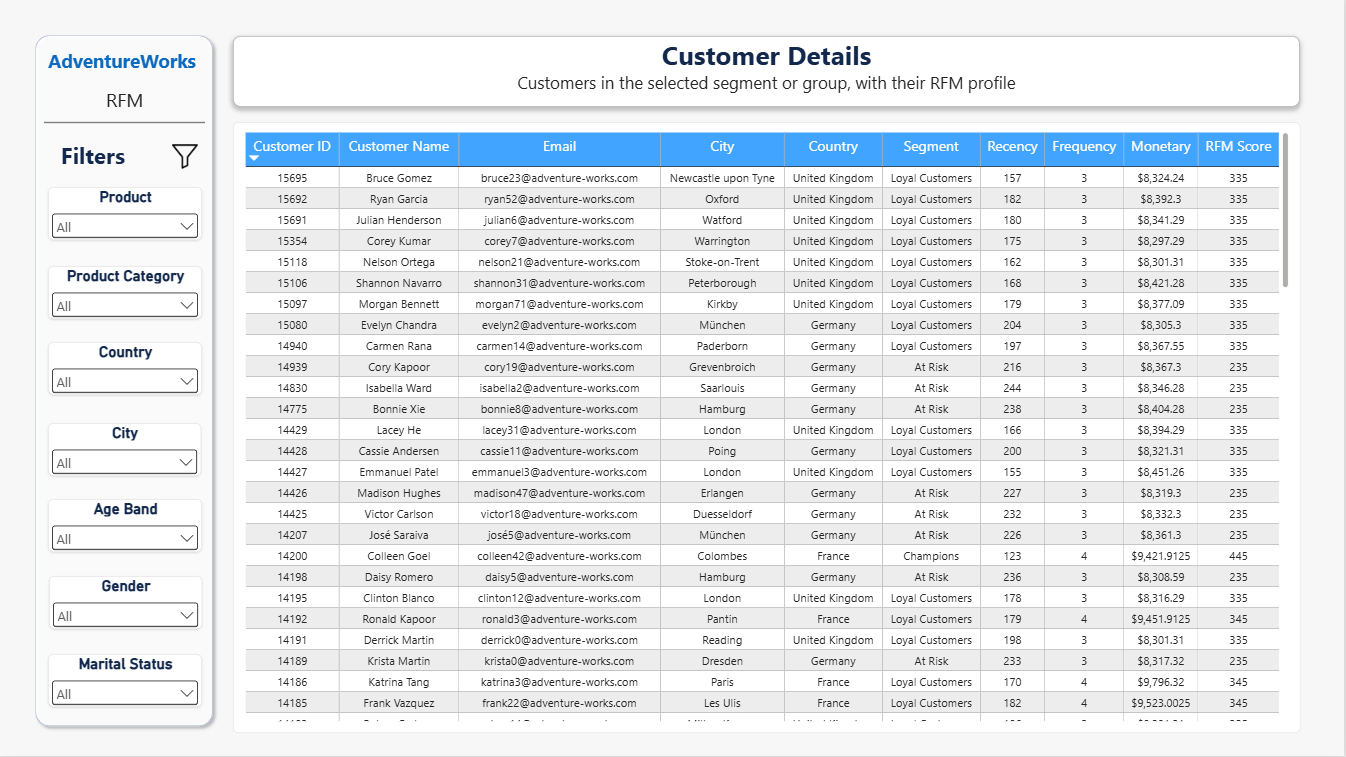

This screenshot's page, from the dashboard's own definition file:
{"tool":"powerbi","page":{"name":"Customer Details","canvas":[1920,1080],"ordinal":2},"visuals":[{"type":"shape","box":[41.7,41.7,271.7,1005],"z":0},{"type":"textbox","box":[68.3,198.3,128.6,52.9],"z":1000},{"type":"textbox","box":[52.9,68.6,250,97.1],"z":2000},{"type":"shape","box":[63.3,153.3,230,44.3],"z":3000},{"type":"image","box":[245,198.3,37.1,50],"z":4000},{"type":"slicer","title":"Product","fields":{"Values":["DimProduct.ProductName"]},"box":[68.3,266.7,220,75.7],"z":5000},{"type":"slicer","title":"Country","fields":{"Values":["DimGeography.Country"]},"box":[68.6,488.6,220,75.7],"z":6000},{"type":"slicer","title":"City","fields":{"Values":["DimGeography.City"]},"box":[68.6,604.3,218.6,75.7],"z":7000},{"type":"slicer","title":"Age Band","fields":{"Values":["DimCustomer.Age Band"]},"box":[68.6,712.9,220,75.7],"z":8000},{"type":"slicer","title":"Gender","fields":{"Values":["DimCustomer.Gender"]},"box":[70,822.9,218.6,75.7],"z":9000},{"type":"slicer","title":"Marital Status","fields":{"Values":["DimCustomer.MaritalStatus"]},"box":[68.6,934.3,220,75.7],"z":10000},{"type":"slicer","title":"Product Category","fields":{"Values":["DimProductCategory.Category"]},"box":[68.6,380,220,75.7],"z":11000},{"type":"textbox","box":[332.9,51.4,1524.3,101.4],"z":12000},{"type":"tableEx","fields":{"Values":["DimCustomer.CustomerKey","DimCustomer.CustomerName","DimCustomer.EmailAddress","DimGeography.City","DimGeography.Country","Segment Guide.Segment","RFM Table.Recency","RFM Table.Frequency","RFM Table.Monetary","RFM Table.RFM Score"]},"box":[332.5,175,1525,872.5],"z":13000}]}

Visuals, with their boxes on the page's 1920x1080 design canvas (x1, y1, x2, y2). These are canvas units, not pixel positions in the 1346x757 screenshot, which may show the page scaled, cropped or inside an application window:
shape: (left=42, top=42, right=313, bottom=1047)
textbox: (left=68, top=198, right=197, bottom=251)
textbox: (left=53, top=69, right=303, bottom=166)
shape: (left=63, top=153, right=293, bottom=198)
image: (left=245, top=198, right=282, bottom=248)
"Product" slicer: (left=68, top=267, right=288, bottom=342)
"Country" slicer: (left=69, top=489, right=289, bottom=564)
"City" slicer: (left=69, top=604, right=287, bottom=680)
"Age Band" slicer: (left=69, top=713, right=289, bottom=789)
"Gender" slicer: (left=70, top=823, right=289, bottom=899)
"Marital Status" slicer: (left=69, top=934, right=289, bottom=1010)
"Product Category" slicer: (left=69, top=380, right=289, bottom=456)
textbox: (left=333, top=51, right=1857, bottom=153)
tableEx - DimCustomer.CustomerKey x DimCustomer.CustomerName: (left=332, top=175, right=1858, bottom=1048)
